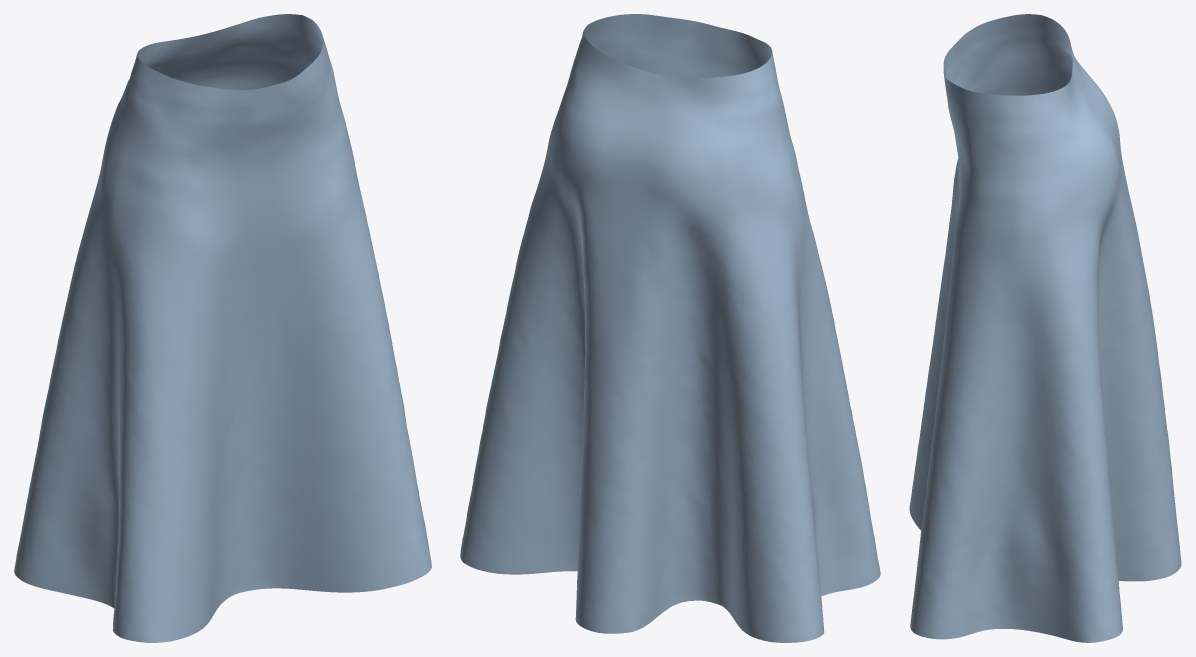
Rendered from skirt_S.glb.
3 views of the same model, side by side, from view 1: azimuth 30°, elevation 25°; view 2: azimuth 150°, elevation 25°; view 3: azimuth 270°, elevation 25° (orthographic). The views are drawn at different scales.
Visible parts, largest first — view 1: geometry_0; view 2: geometry_0; view 3: geometry_0.
Boxes of the visible parts, bbox=[...] form: geometry_0: bbox=[14, 14, 431, 642]; geometry_0: bbox=[460, 14, 880, 642]; geometry_0: bbox=[909, 14, 1181, 642].
Size of the model in its own units: 0.5665 by 0.827 by 0.3895.
